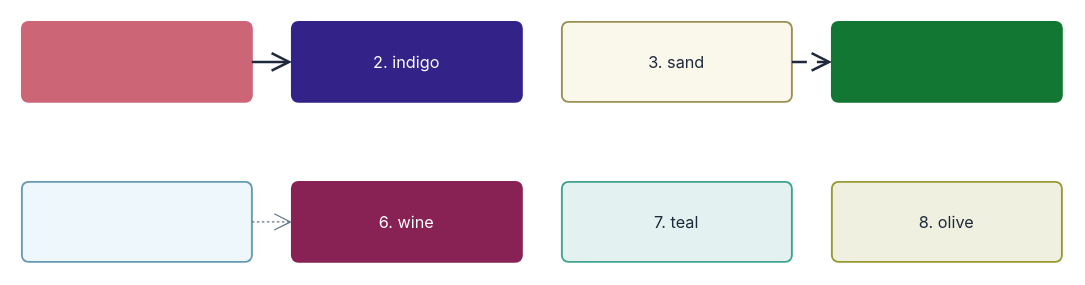
Image size: 1085x285. Some labels were removed from this diagram. Each missing label, with the centre of its shape:
"1. rose" belongs at (x=136, y=61).
"4. green" belongs at (x=946, y=61).
"5. cyan" belongs at (x=136, y=221).
